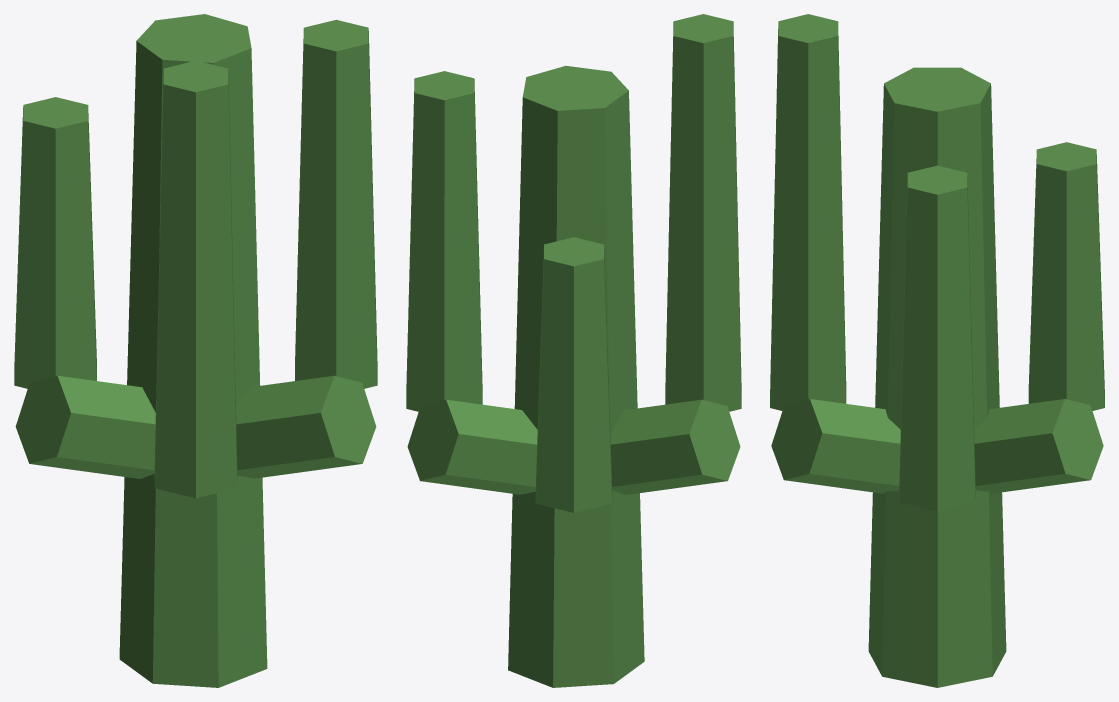
File: cactus_candelabro.obj
3 views of the same model, side by side, from view 1: azimuth 30°, elevation 25°; view 2: azimuth 150°, elevation 25°; view 3: azimuth 270°, elevation 25° (orthographic). The views are drawn at different scales.
Visible parts, largest first — view 1: cactus_candelabro; view 2: cactus_candelabro; view 3: cactus_candelabro.
Boxes of the visible parts, <box> form: cactus_candelabro: <box>14,14,377,687</box>; cactus_candelabro: <box>406,14,741,687</box>; cactus_candelabro: <box>770,14,1104,687</box>.
Size of the model in its own units: 2.36 by 4.2 by 2.13.
